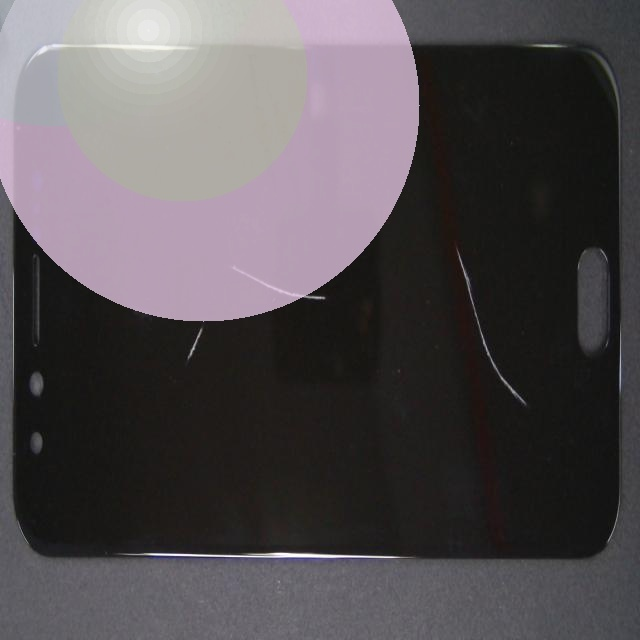scratch: (304, 281, 640, 520), (191, 145, 472, 428), (111, 167, 307, 477)
